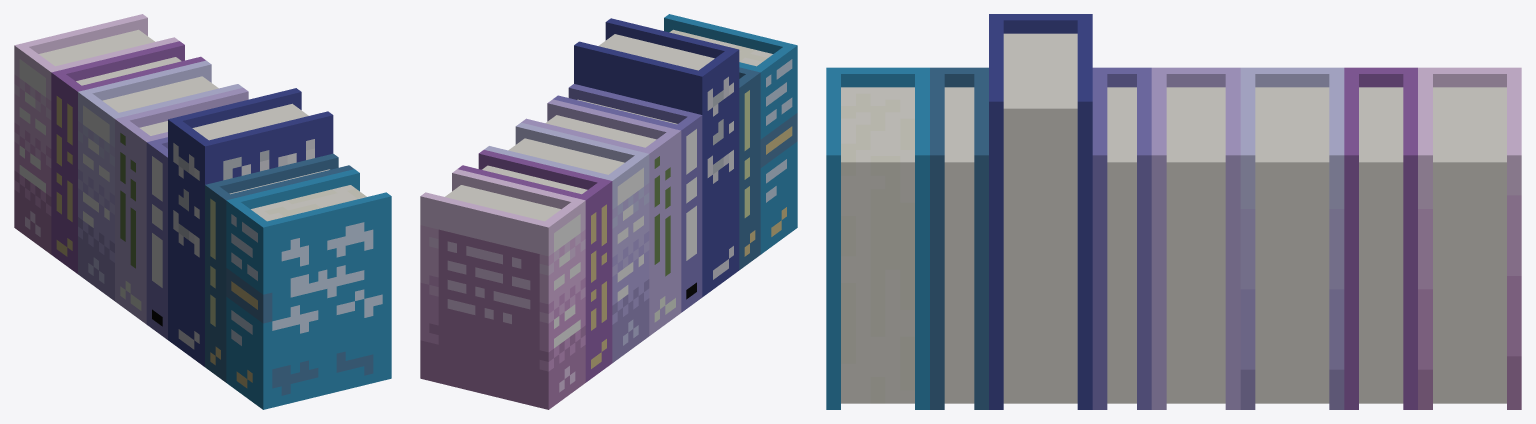
The model's file is books.gltf.
3 renders of one model, left to right at view 1: azimuth 30°, elevation 25°; view 2: azimuth 150°, elevation 25°; view 3: azimuth 270°, elevation 25°, orthographic. The views are drawn at different scales.
Bounding box in the file's own units: 0.2979 × 0.4894 × 1.
